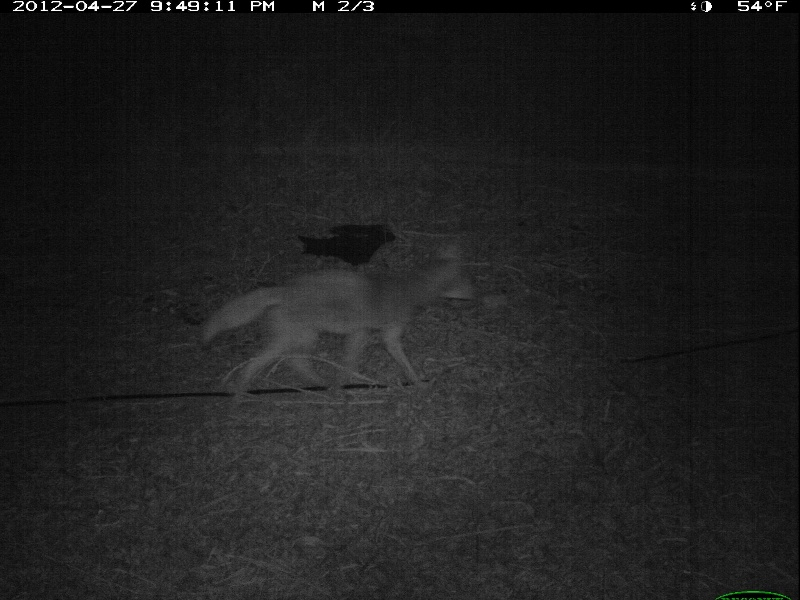coyote: (194, 245, 477, 419)
